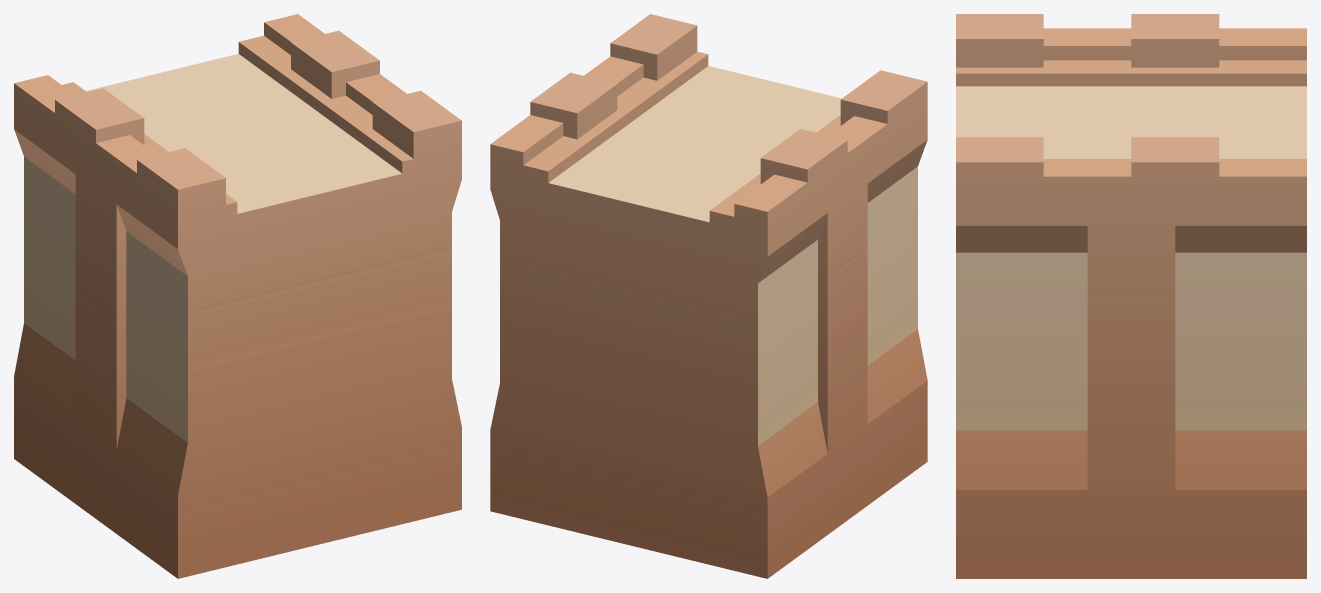
Rendered from wall-pillar.glb.
3 renders of one model, left to right at view 1: azimuth 30°, elevation 25°; view 2: azimuth 150°, elevation 25°; view 3: azimuth 270°, elevation 25°, orthographic. The views are drawn at different scales.
Parts seen in each view (by area): view 1: wall-pillar; view 2: wall-pillar; view 3: wall-pillar.
Part boxes in pixels (x1,y1,x2,y2): wall-pillar: [14, 14, 461, 578]; wall-pillar: [490, 14, 927, 578]; wall-pillar: [956, 14, 1306, 578].
Bounding box in the file's own units: 1 × 1.31 × 1.
Materials: 1 (1 with a texture image).
